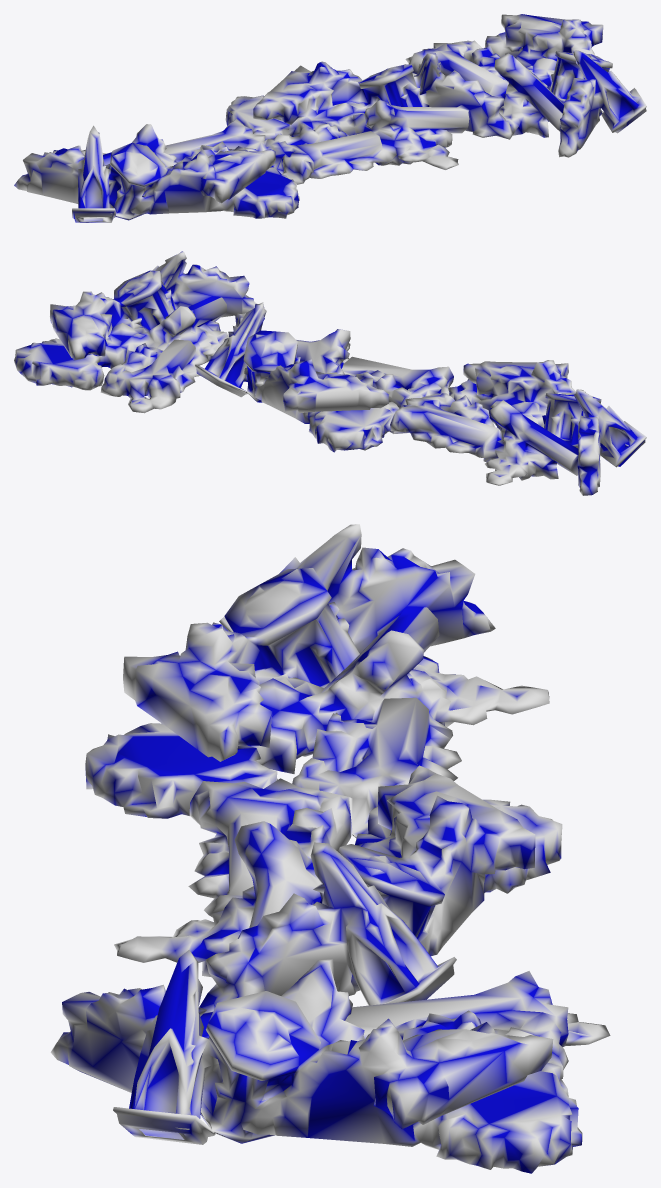
Rendered from SM_Ruins_01a.FBX.
The picture shows the model from 3 angles, top to bottom: view 1: azimuth 30°, elevation 25°; view 2: azimuth 150°, elevation 25°; view 3: azimuth 270°, elevation 25°; orthographic projection. The views are drawn at different scales.
Parts seen in each view (by area): view 1: SMPX_Ruins_01a_LOD0; view 2: SMPX_Ruins_01a_LOD0; view 3: SMPX_Ruins_01a_LOD0.
Boxes of the visible parts, x1,y1,x2,y2 form: SMPX_Ruins_01a_LOD0: (14,14,646,222); SMPX_Ruins_01a_LOD0: (14,251,646,495); SMPX_Ruins_01a_LOD0: (50,524,610,1173).
Bounding box in the file's own units: 6336 × 2714 × 870.
